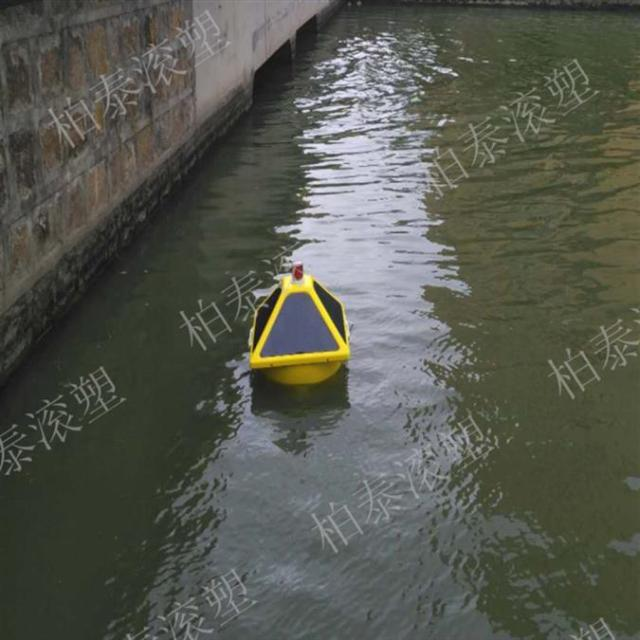buoy: (248, 259, 355, 385)
